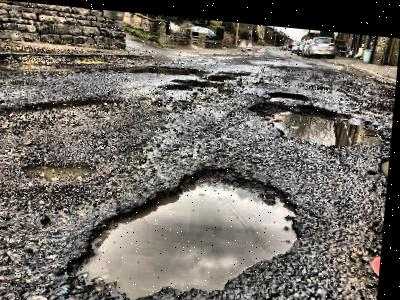pothole: (65, 146, 310, 300), (245, 92, 388, 143), (21, 154, 100, 185), (135, 58, 207, 77), (170, 72, 228, 88), (265, 82, 310, 97), (380, 149, 391, 169)
